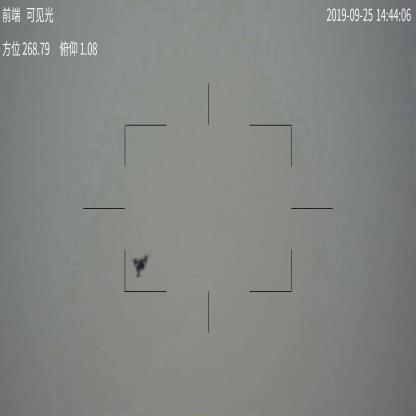uav: (129, 252, 149, 278)
